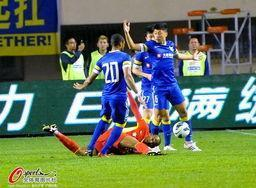Fall-Detected: (35, 84, 169, 157)
